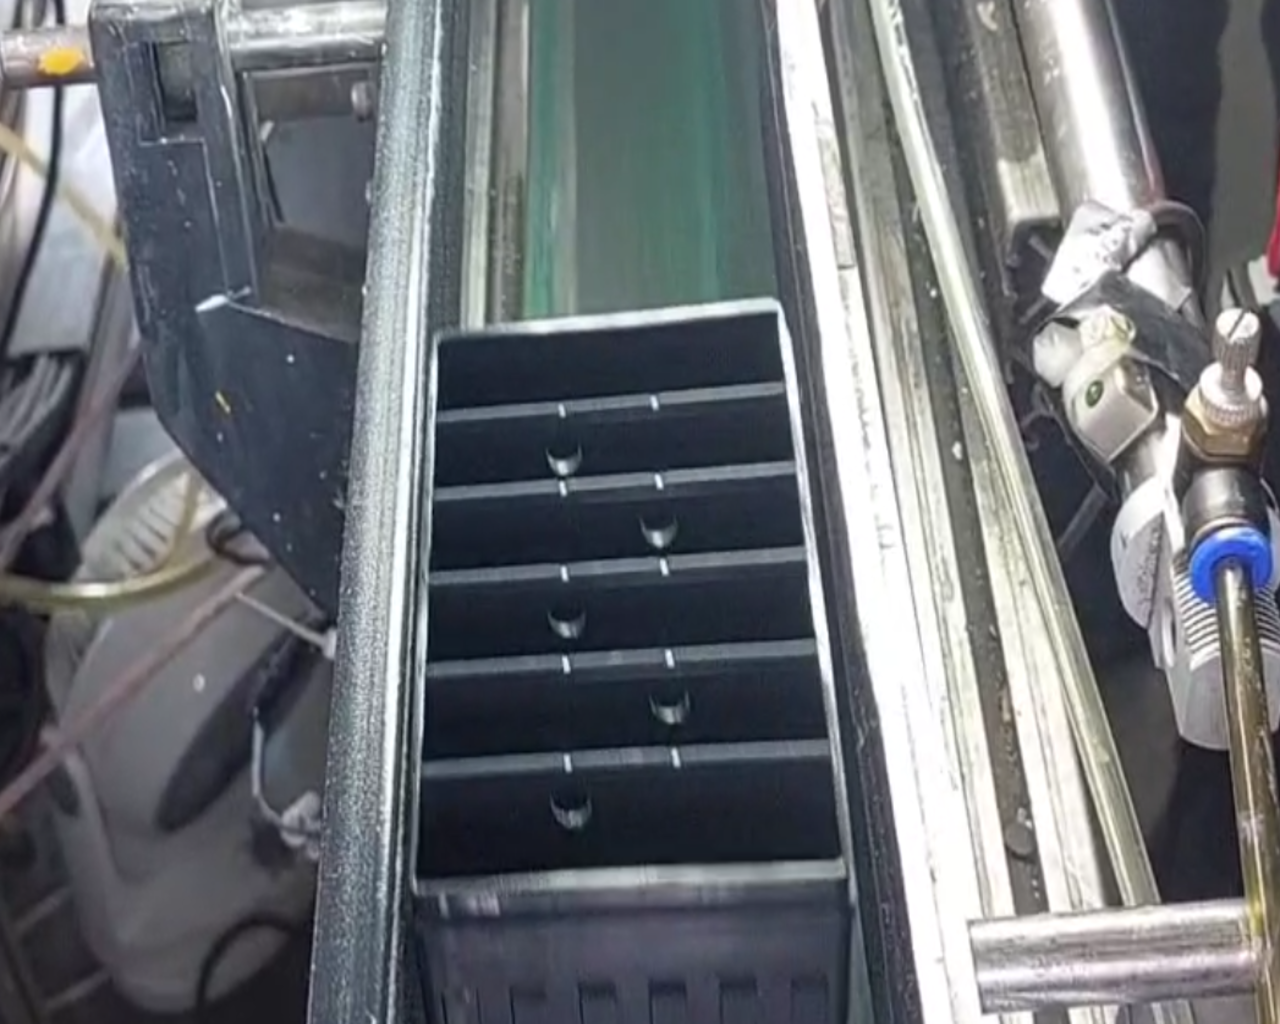box: (391, 279, 884, 923)
round: (627, 486, 702, 575), (523, 763, 610, 839), (523, 581, 605, 654), (522, 412, 595, 494), (632, 659, 708, 737)
